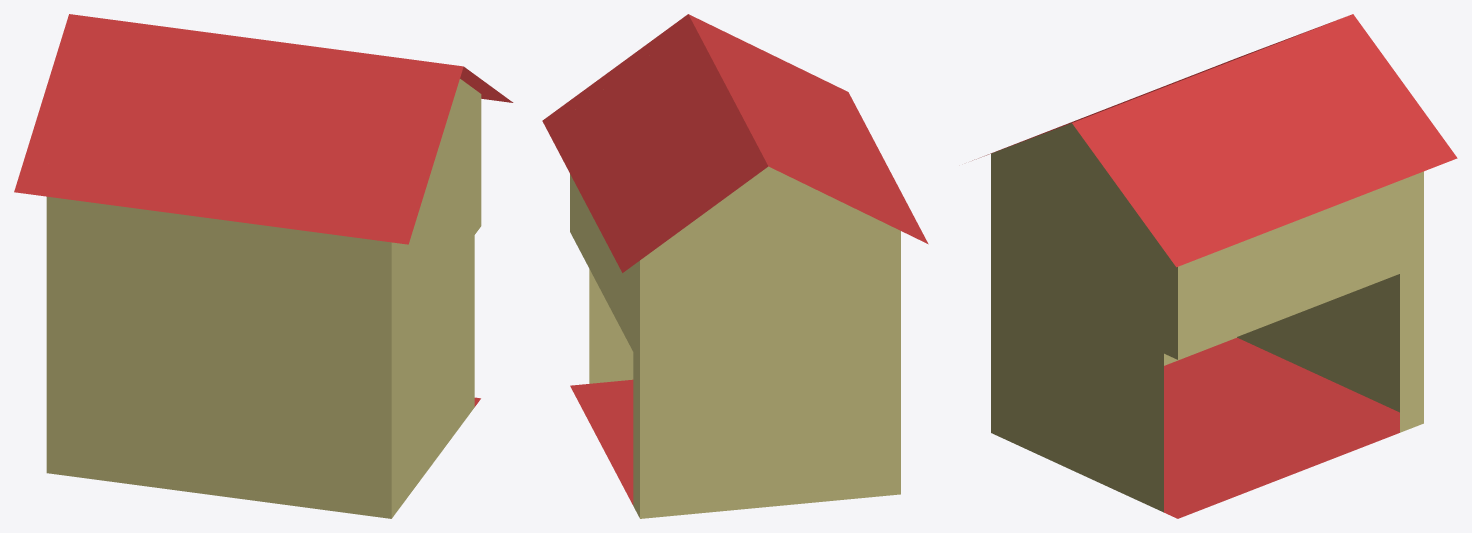
3 views of the same model, side by side, from view 1: azimuth 30°, elevation 25°; view 2: azimuth 150°, elevation 25°; view 3: azimuth 270°, elevation 25° (orthographic). The views are drawn at different scales.
Size of the model in its own units: 15.54 by 15.65 by 12.49.
